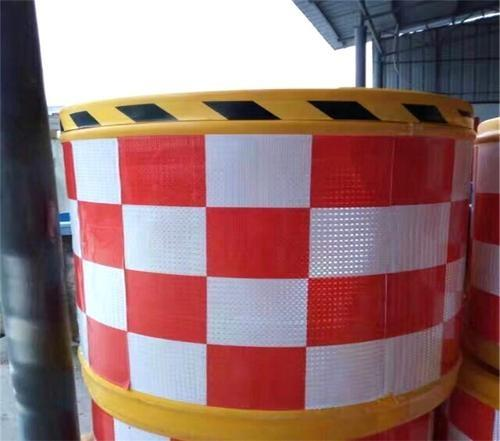cone_barrel: (59, 102, 473, 439), (469, 116, 496, 373)
